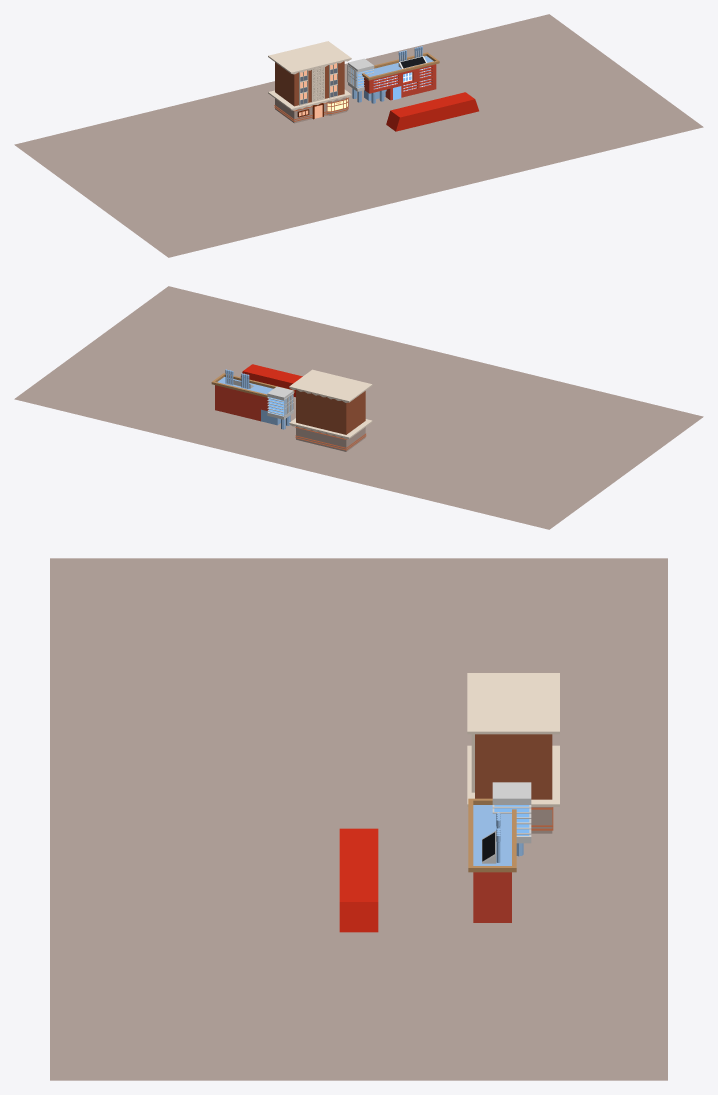
File: university.glb
3 renders of one model, top to bottom at view 1: azimuth 30°, elevation 25°; view 2: azimuth 150°, elevation 25°; view 3: azimuth 270°, elevation 25°, orthographic. The views are drawn at different scales.
Parts seen in each view (by area): view 1: Plane, lightrail, roof1.003, Cube.009, Cube.002, Cube.016, Cube.042, Cube.001, roof1.002; view 2: Plane, Cube.002, roof1.003, Cube.009, Cube.001, lightrail, Cube.016, roof1.002; view 3: Plane, roof1.003, Cube.002, lightrail, Cube.009, Cube.015, Cube.016, Cube.024, roof1.002.
Boxes of the visible parts, x1=… form: Plane: x1=14, y1=14, x2=703, y2=257; lightrail: x1=386, y1=92, x2=478, y2=131; roof1.003: x1=268, y1=41, x2=351, y2=74; Cube.009: x1=364, y1=64, x2=436, y2=100; Cube.002: x1=275, y1=61, x2=344, y2=106; Cube.016: x1=362, y1=52, x2=439, y2=80; Cube.042: x1=311, y1=66, x2=324, y2=102; Cube.001: x1=275, y1=98, x2=326, y2=123; roof1.002: x1=268, y1=89, x2=351, y2=110; Plane: x1=14, y1=286, x2=703, y2=529; Cube.002: x1=296, y1=389, x2=365, y2=434; roof1.003: x1=289, y1=369, x2=372, y2=402; Cube.009: x1=215, y1=385, x2=268, y2=421; Cube.001: x1=296, y1=426, x2=365, y2=451; lightrail: x1=241, y1=364, x2=302, y2=397; Cube.016: x1=211, y1=373, x2=294, y2=397; roof1.002: x1=289, y1=418, x2=372, y2=439; Plane: x1=50, y1=558, x2=667, y2=1080; roof1.003: x1=467, y1=673, x2=559, y2=734; Cube.002: x1=475, y1=734, x2=552, y2=799; lightrail: x1=339, y1=828, x2=378, y2=932; Cube.009: x1=473, y1=872, x2=511, y2=922; Cube.015: x1=473, y1=805, x2=511, y2=865; Cube.016: x1=468, y1=798, x2=516, y2=872; Cube.024: x1=492, y1=782, x2=531, y2=843; roof1.002: x1=467, y1=745, x2=559, y2=806.
Bounding box in the file's own units: 64 × 6.1 × 32.
